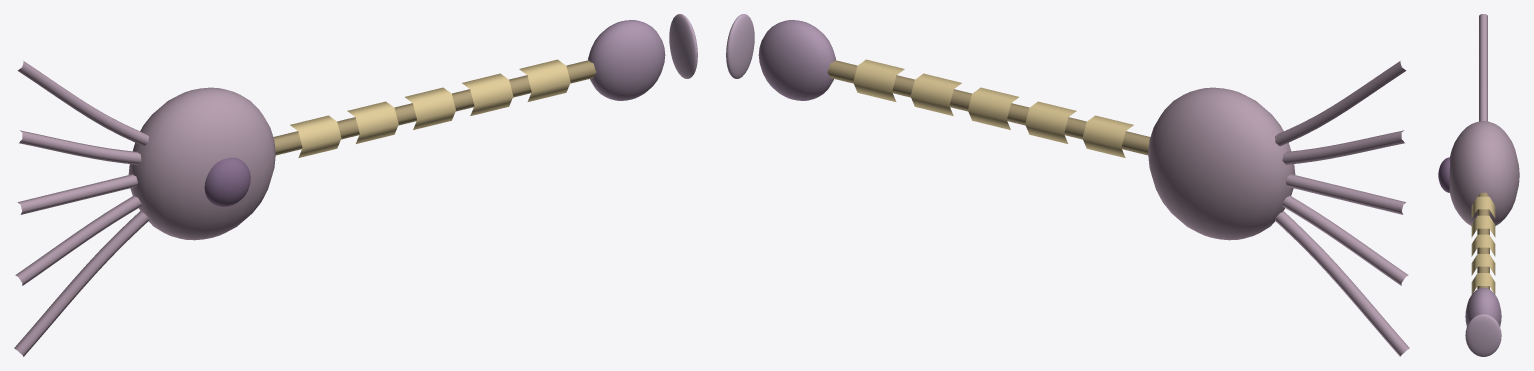
File: neuron.glb
3 views of the same model, side by side, from view 1: azimuth 30°, elevation 25°; view 2: azimuth 150°, elevation 25°; view 3: azimuth 270°, elevation 25° (orthographic). The views are drawn at different scales.
Parts seen in each view (by area): view 1: micro-cell-body, micro-axon-terminals, micro-dendrite-0, micro-axon, micro-dendrite-1, micro-dendrite-4, micro-nucleus, micro-dendrite-2, micro-dendrite-3, micro-synapse, micro-myelin-4, micro-myelin-0 (+3 smaller); view 2: micro-cell-body, micro-axon-terminals, micro-dendrite-0, micro-axon, micro-dendrite-1, micro-dendrite-4, micro-dendrite-2, micro-dendrite-3, micro-synapse, micro-myelin-4, micro-myelin-0, micro-myelin-1 (+2 smaller); view 3: micro-cell-body, micro-synapse, micro-dendrite-4, micro-axon-terminals, micro-axon, micro-myelin-0, micro-myelin-1, micro-myelin-2, micro-nucleus, micro-myelin-3, micro-myelin-4.
Part boxes in pixels (box(x1,y1,x2,y2)): micro-cell-body: box(128, 87, 275, 240); micro-axon-terminals: box(588, 20, 665, 100); micro-dendrite-0: box(14, 211, 148, 356); micro-axon: box(273, 60, 596, 155); micro-dendrite-1: box(15, 195, 141, 285); micro-dendrite-4: box(17, 61, 148, 146); micro-nucleus: box(204, 157, 250, 206); micro-dendrite-2: box(17, 174, 137, 214); micro-dendrite-3: box(19, 130, 141, 164); micro-synapse: box(669, 14, 697, 78); micro-myelin-4: box(519, 59, 570, 101); micro-myelin-0: box(290, 115, 341, 157); micro-cell-body: box(1148, 87, 1295, 240); micro-axon-terminals: box(758, 20, 835, 100); micro-dendrite-0: box(1275, 211, 1409, 356); micro-axon: box(827, 60, 1150, 155); micro-dendrite-1: box(1282, 195, 1408, 285); micro-dendrite-4: box(1275, 61, 1406, 146); micro-dendrite-2: box(1286, 174, 1406, 214); micro-dendrite-3: box(1282, 130, 1404, 164); micro-synapse: box(726, 14, 754, 78); micro-myelin-4: box(853, 59, 904, 101); micro-myelin-0: box(1082, 115, 1133, 157); micro-myelin-1: box(1025, 101, 1076, 143); micro-cell-body: box(1449, 121, 1519, 225); micro-synapse: box(1465, 314, 1501, 356); micro-dendrite-4: box(1479, 14, 1487, 121); micro-axon-terminals: box(1465, 287, 1501, 326); micro-axon: box(1477, 192, 1489, 289); micro-myelin-0: box(1471, 196, 1495, 218); micro-myelin-1: box(1471, 215, 1495, 237); micro-myelin-2: box(1471, 234, 1495, 256); micro-nucleus: box(1438, 157, 1449, 192); micro-myelin-3: box(1471, 254, 1495, 275); micro-myelin-4: box(1471, 273, 1495, 294).
Bounding box in the file's own units: 2.94 × 1.23 × 0.45.
